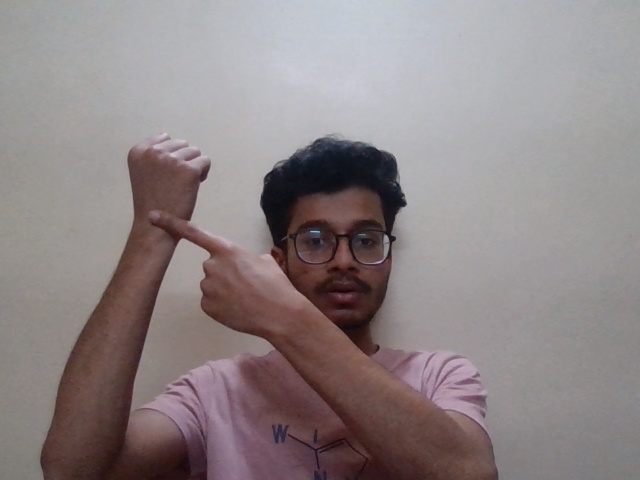time: (103, 129, 274, 342)
